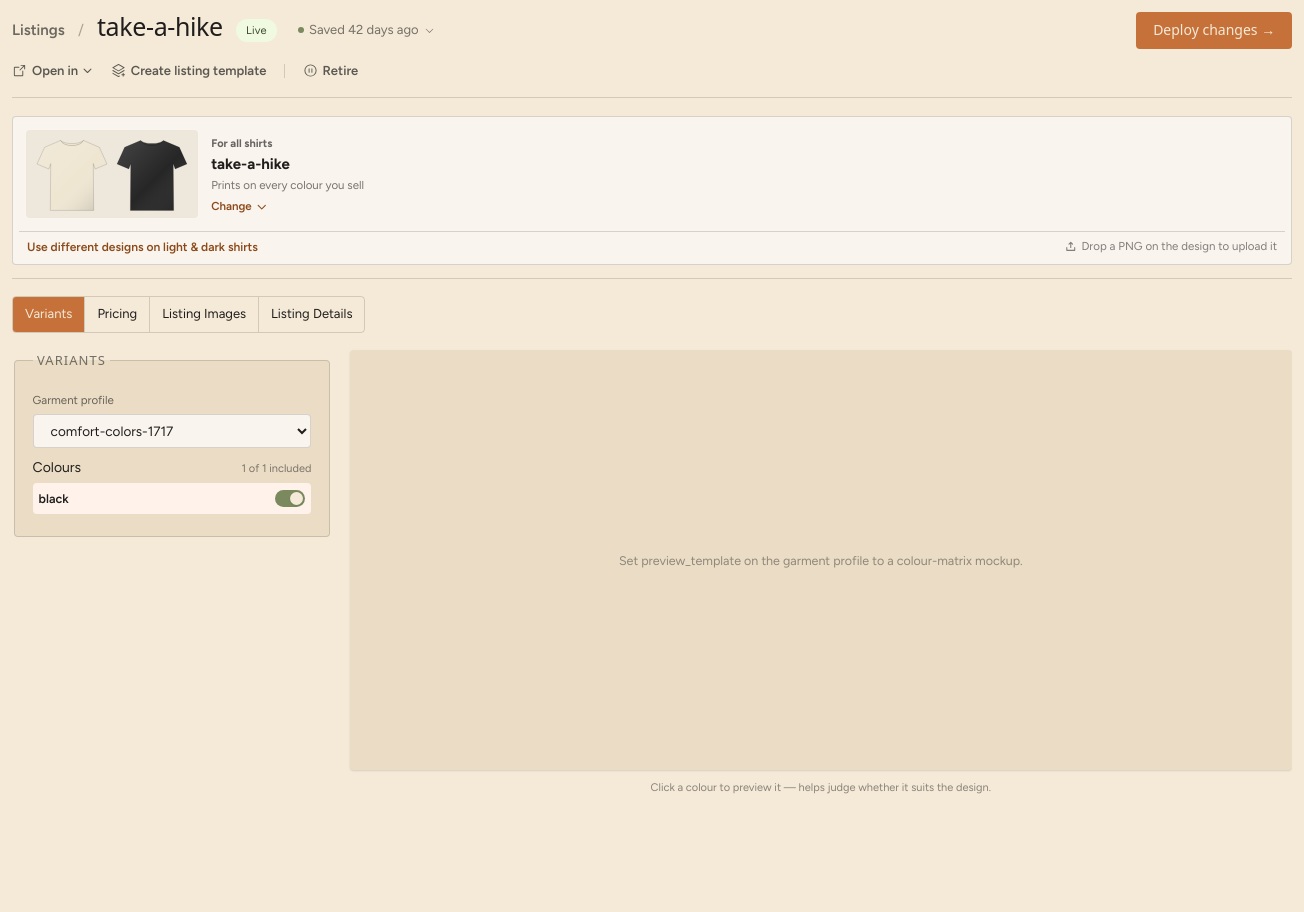
Test: ListingEditorPage › lifecycle actions › sends a retire as an edit to lifecycle, straight away
The image size is (1304, 912).
Click the button "Retire" at (330, 71), box [297,58,364,84]
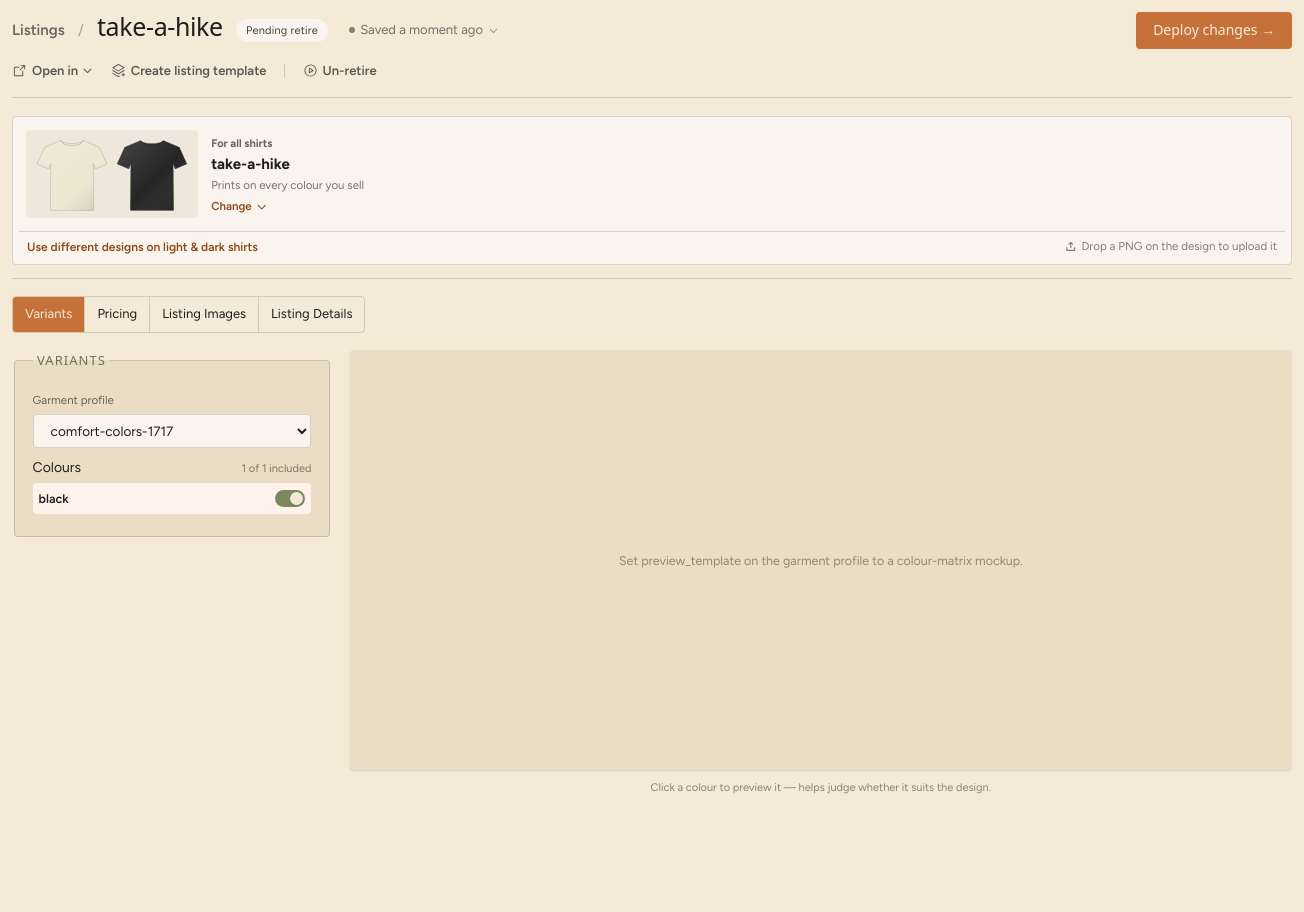
Now the button "Un-retire" is shown, box [297,58,383,84]
